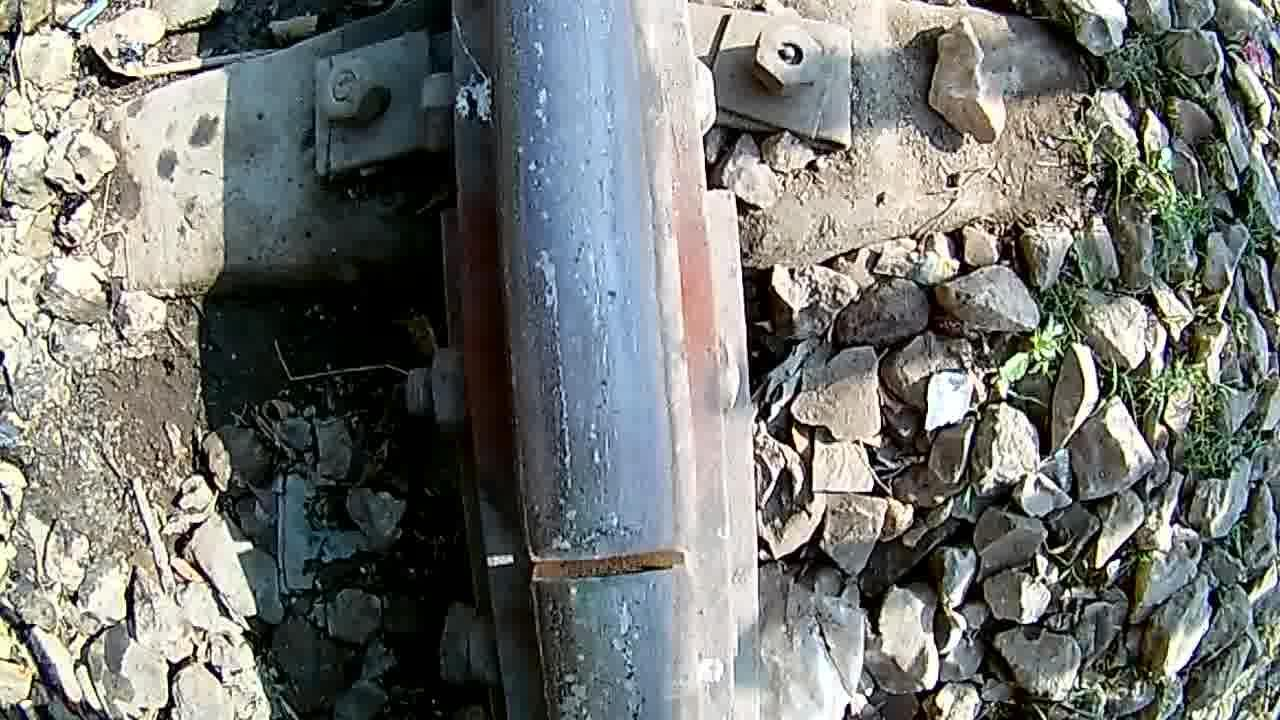crack: (490, 3, 659, 537)
